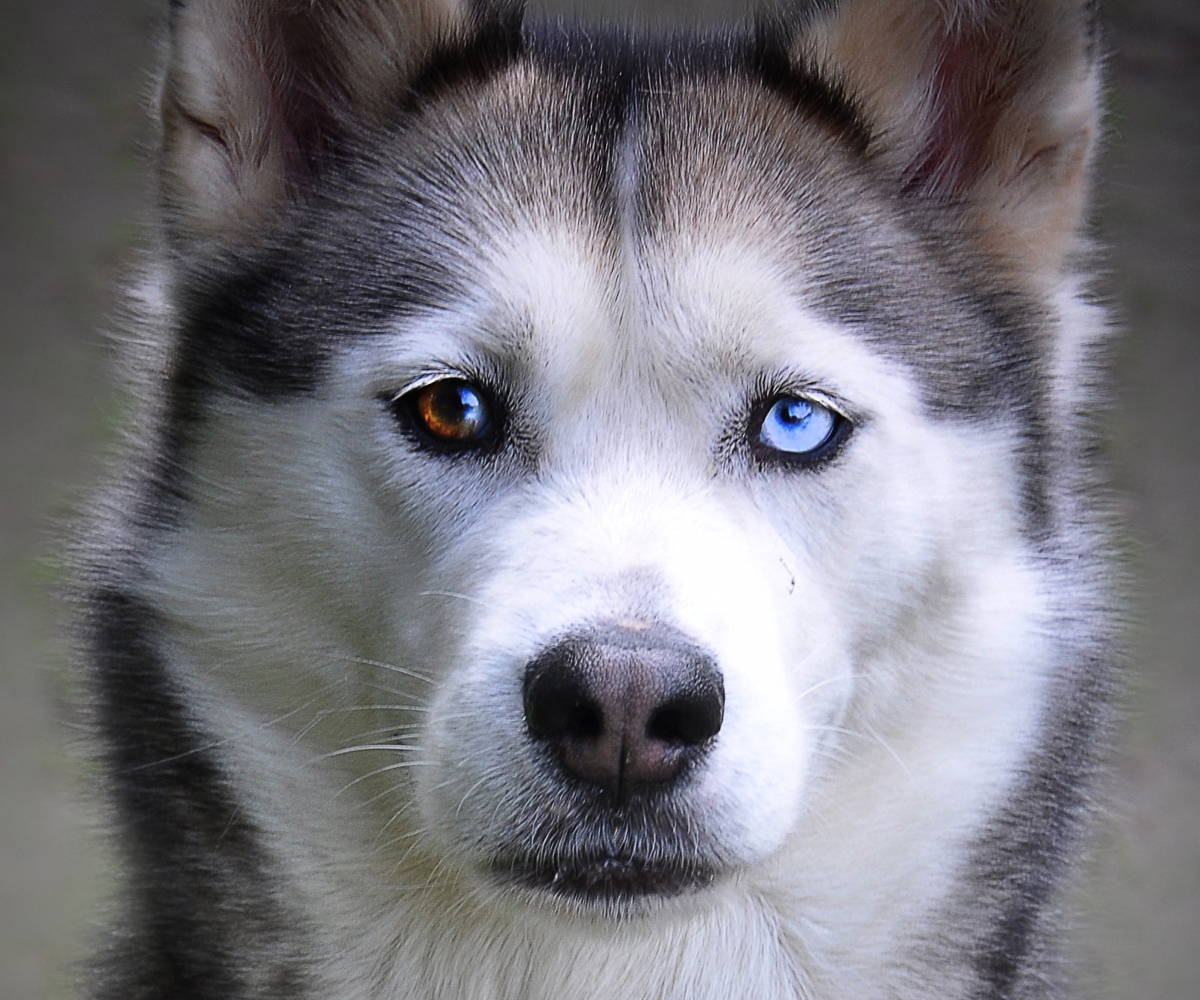husky: (107, 27, 1175, 995)
